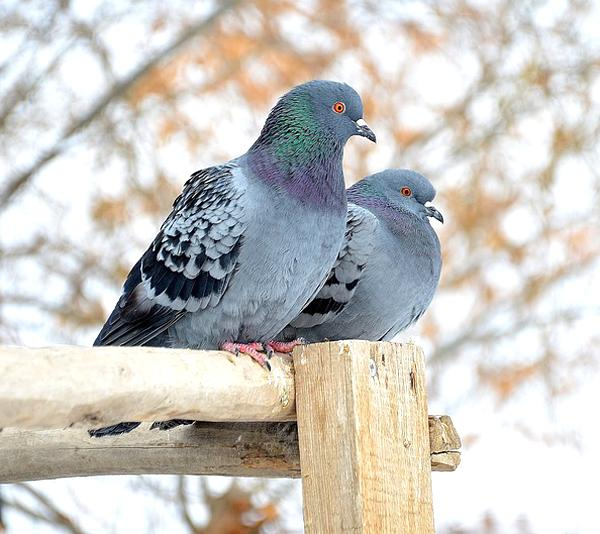Flying Rat: (98, 82, 366, 354), (275, 159, 448, 355)
